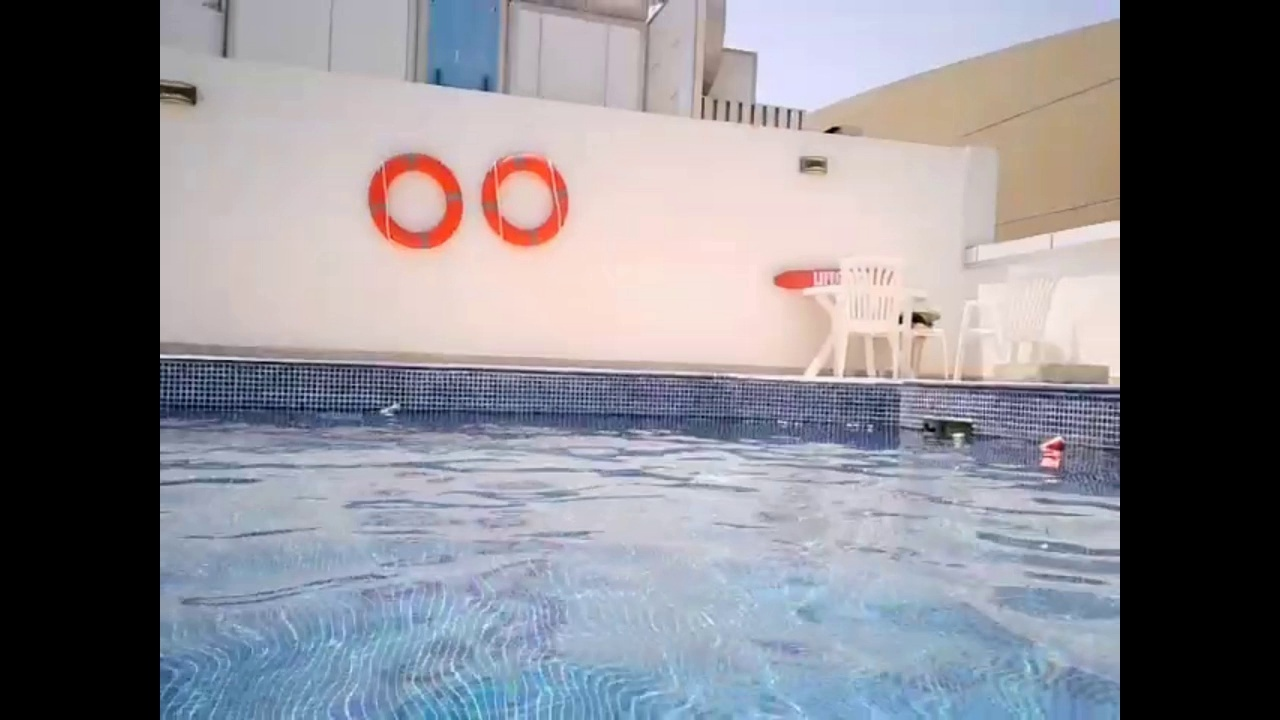debris: (1036, 431, 1070, 458), (375, 399, 406, 422), (946, 430, 968, 451)
